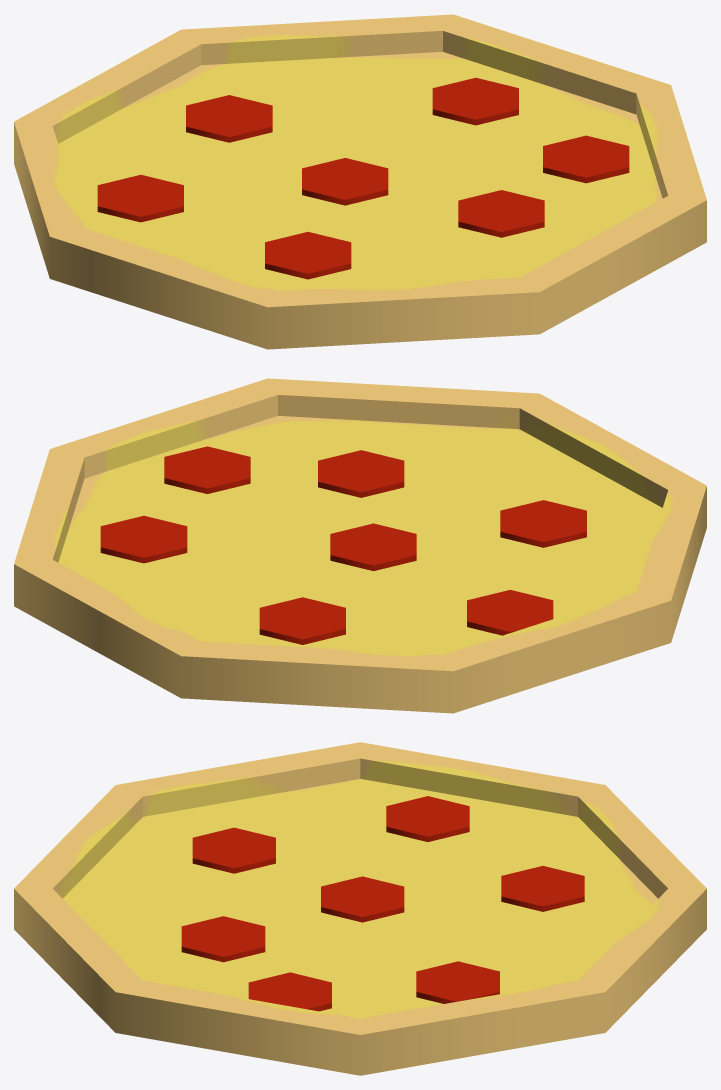
File: Unwrapped_PepPizza.fbx
3 views of the same model, one above another, from view 1: azimuth 30°, elevation 25°; view 2: azimuth 150°, elevation 25°; view 3: azimuth 270°, elevation 25° (orthographic). The views are drawn at different scales.
Visible parts, largest first — view 1: Cylinder005; view 2: Cylinder005; view 3: Cylinder005.
Boxes of the visible parts, box(x1,y1,x2,y2) form: Cylinder005: box(14, 14, 706, 349); Cylinder005: box(14, 378, 706, 713); Cylinder005: box(14, 742, 706, 1075).
Size of the model in its own units: 65.56 by 4.26 by 65.56.
